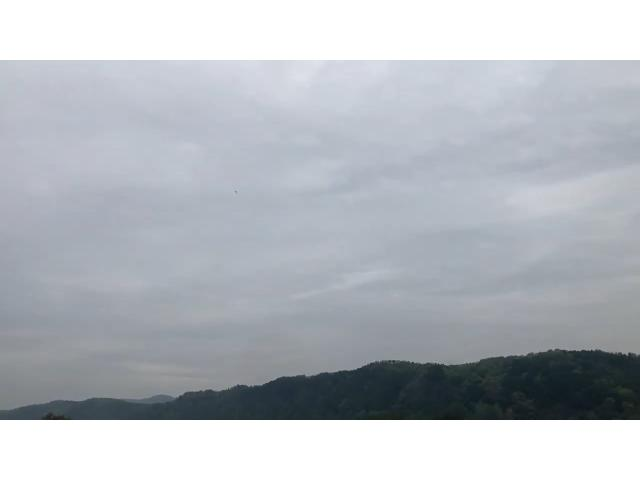Anti-Drone: (227, 184, 243, 197)
